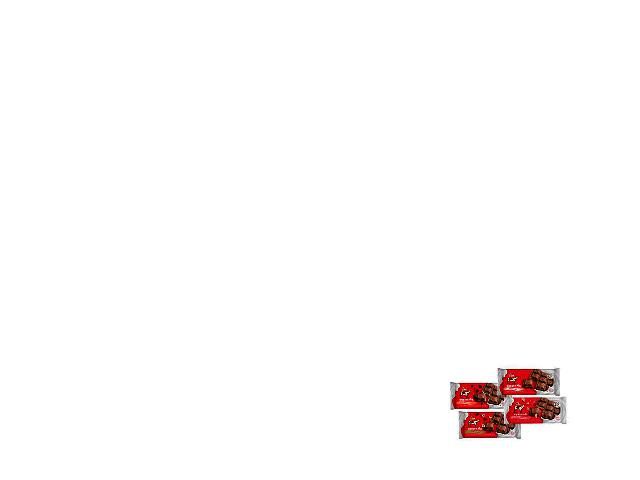chocolate: (453, 405, 524, 442)
